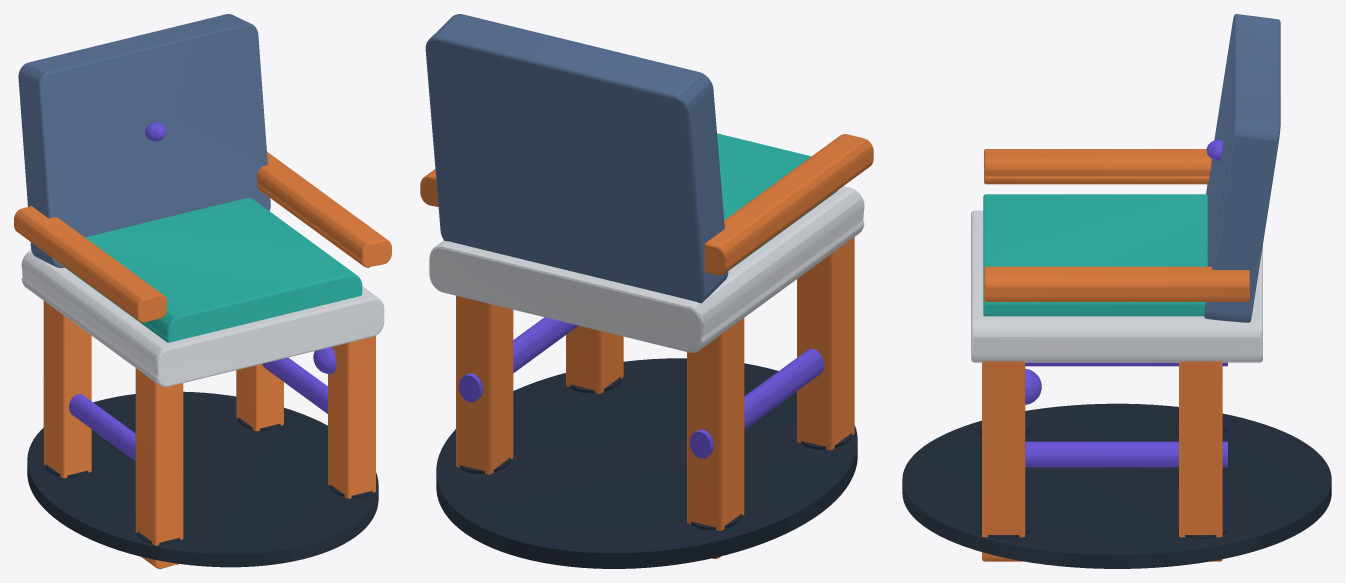
File: 1361_城市运转图鉴_幼儿园.glb
3 renders of one model, left to right at view 1: azimuth 30°, elevation 25°; view 2: azimuth 150°, elevation 25°; view 3: azimuth 270°, elevation 25°, orthographic. The views are drawn at different scales.
Parts seen in each view (by area): view 1: card_1361; view 2: card_1361; view 3: card_1361.
Part boxes in pixels (box(x1,y1,x2,y2)): card_1361: box(14, 14, 391, 568); card_1361: box(420, 14, 873, 568); card_1361: box(902, 14, 1331, 568).
Size of the model in its own units: 0.7375 by 1 by 0.8848.
